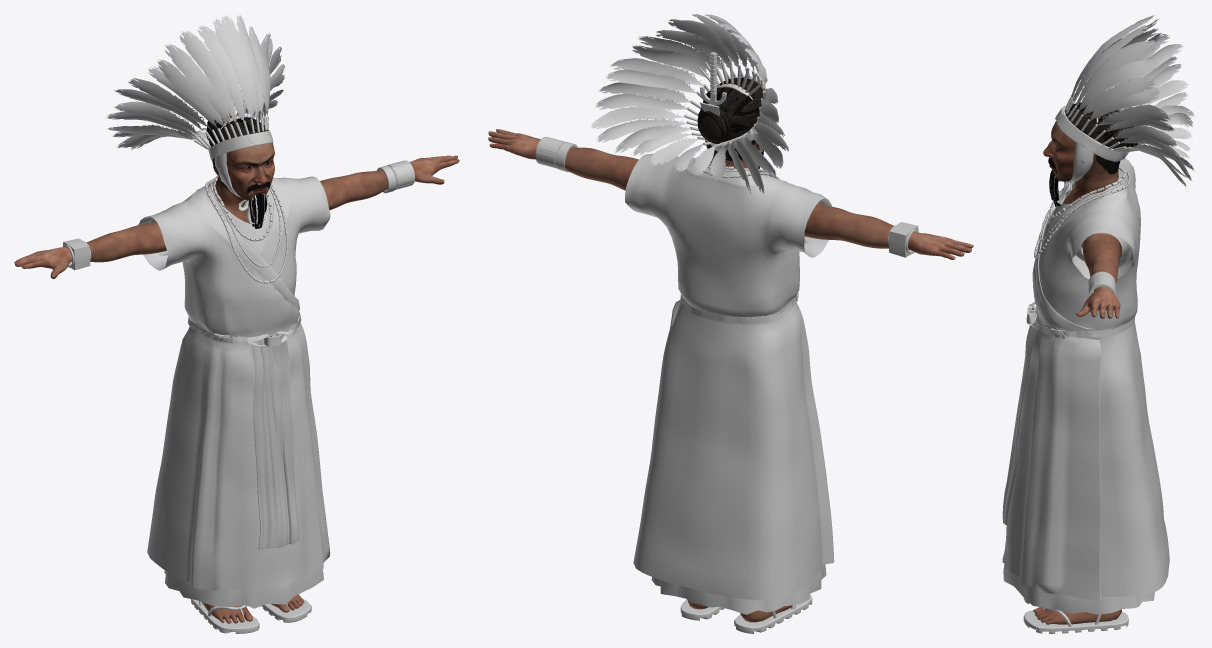
Rendered from guowang.fbx.
3 views of the same model, side by side, from view 1: azimuth 30°, elevation 25°; view 2: azimuth 150°, elevation 25°; view 3: azimuth 270°, elevation 25° (orthographic). The views are drawn at different scales.
Parts seen in each view (by area): view 1: polySurface664; view 2: polySurface664; view 3: polySurface664.
Part boxes in pixels (left/top/right/bottom): polySurface664: left=14, top=14, right=459, bottom=633; polySurface664: left=488, top=14, right=973, bottom=633; polySurface664: left=1002, top=15, right=1194, bottom=633.
Size of the model in its own units: 167 by 204 by 60.98.
